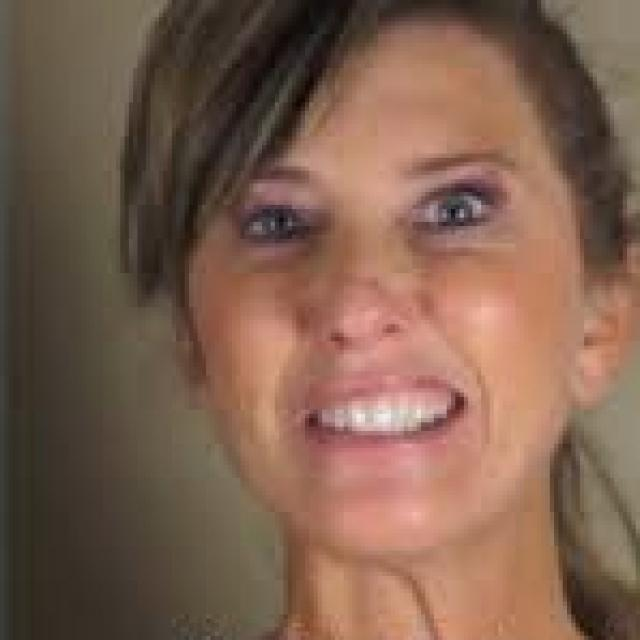stroke_face: (158, 0, 631, 562)
